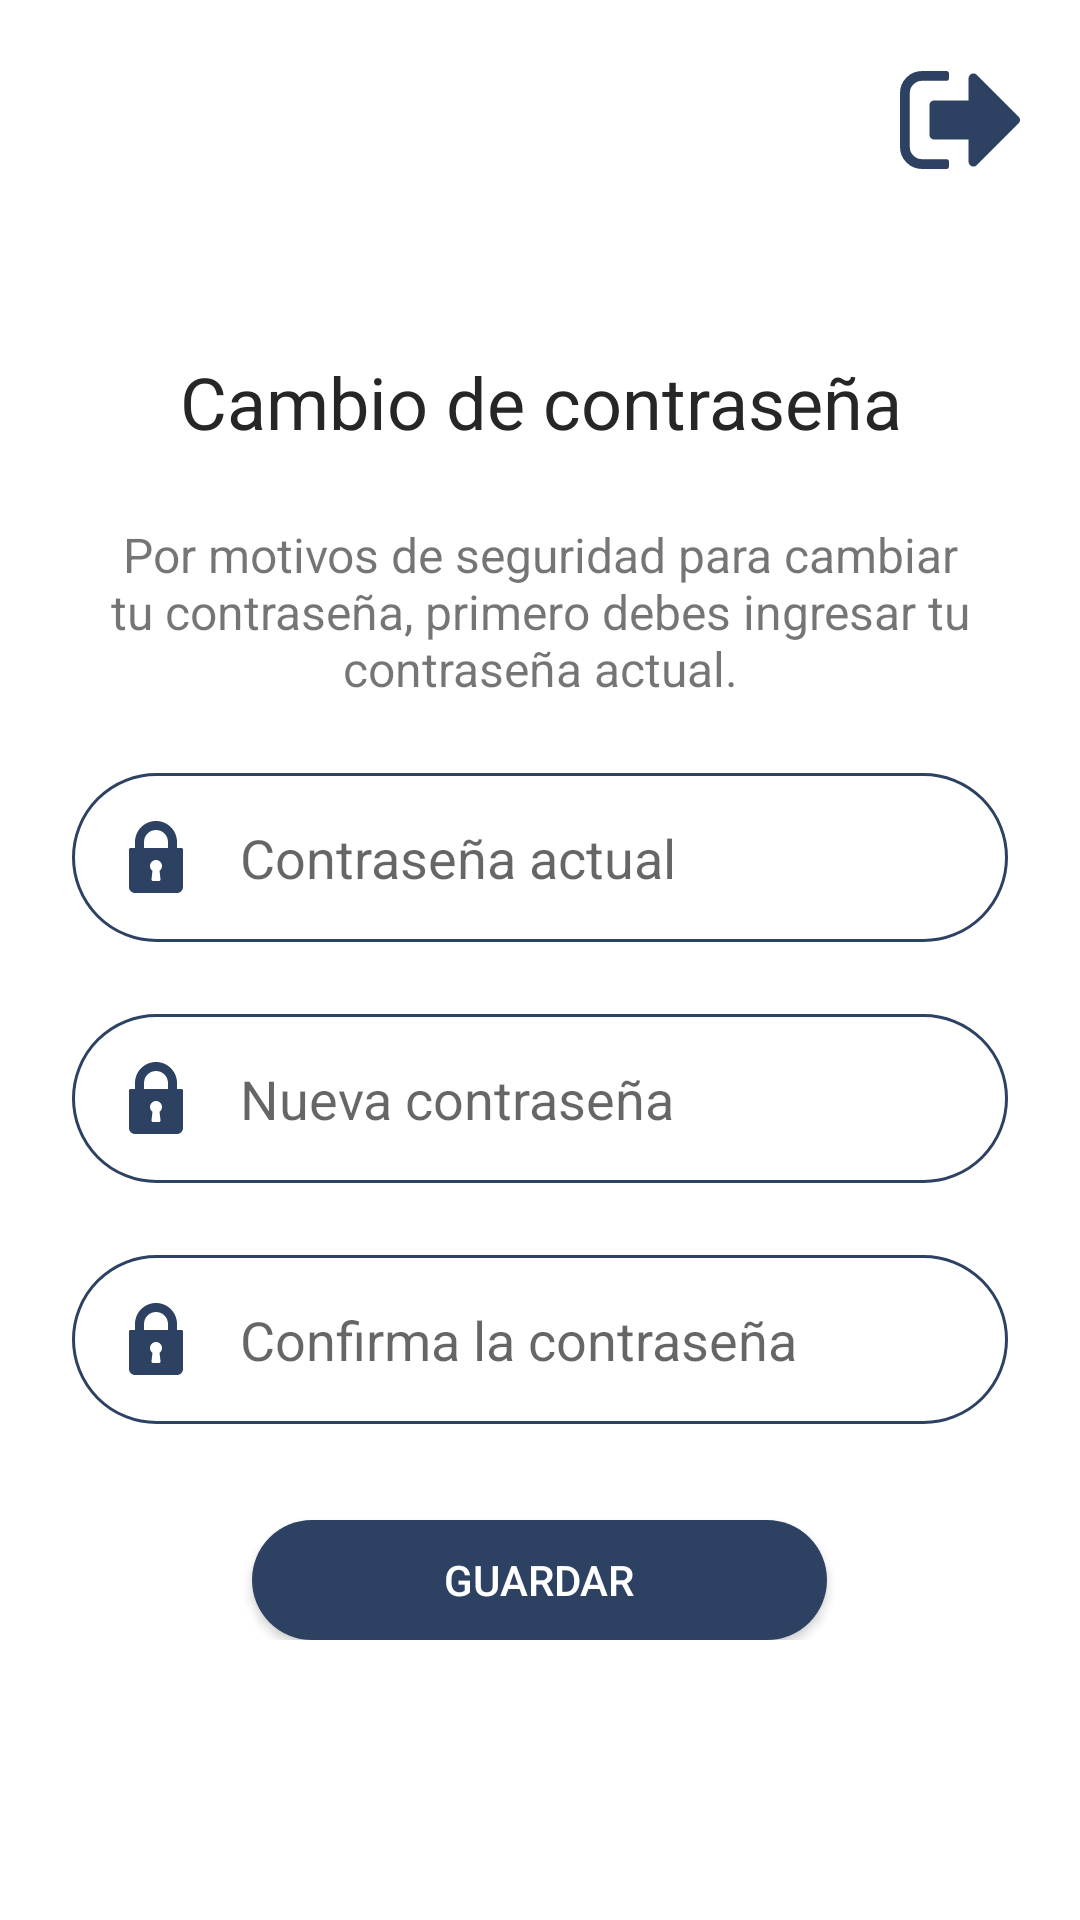

Point at icon controls on the screen. Image size 1080px x 1920px, points as point (x, y).
sign out: point (960, 120)
